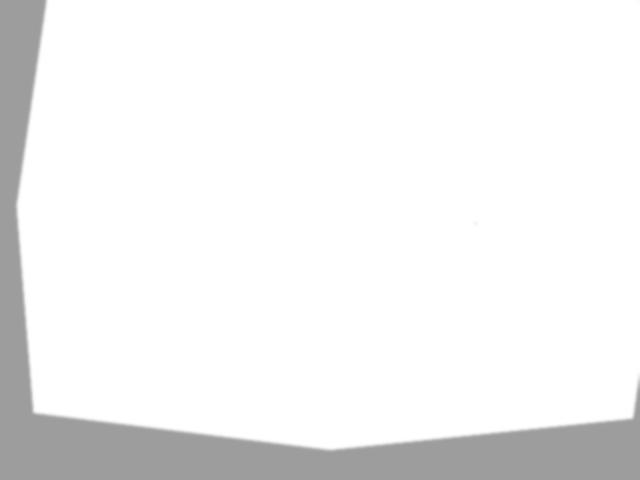flying wing: (433, 206, 507, 262)
